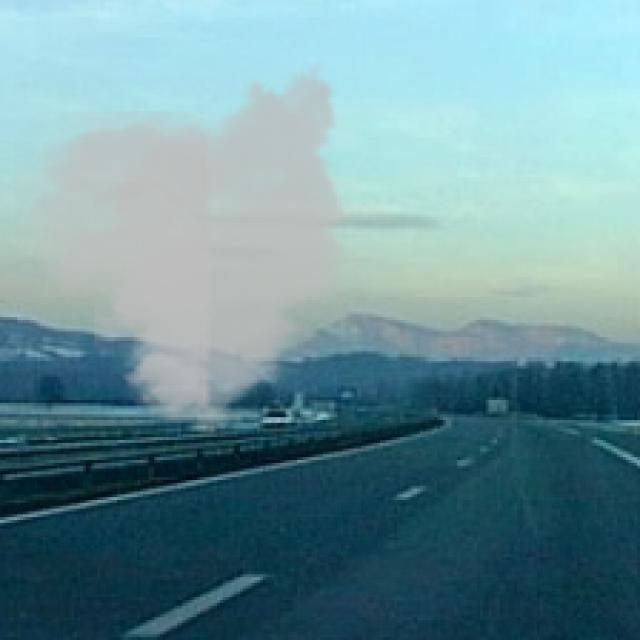Smoke: (14, 51, 360, 446)
